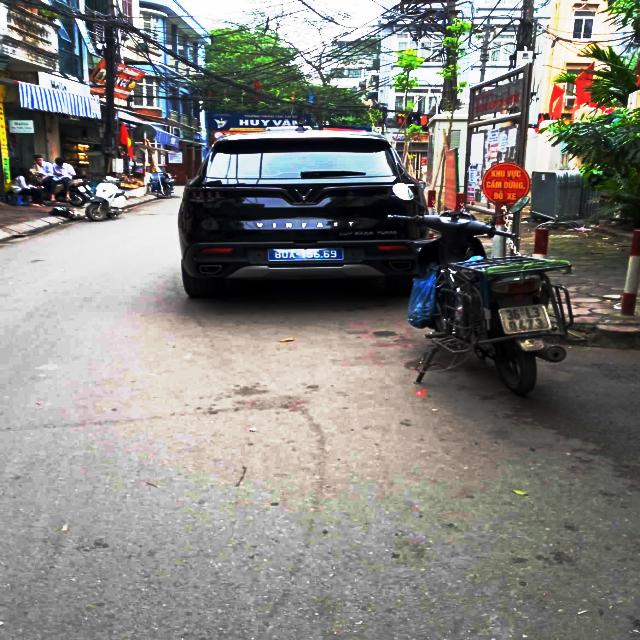license_plate: (500, 304, 555, 335), (269, 249, 347, 263)
